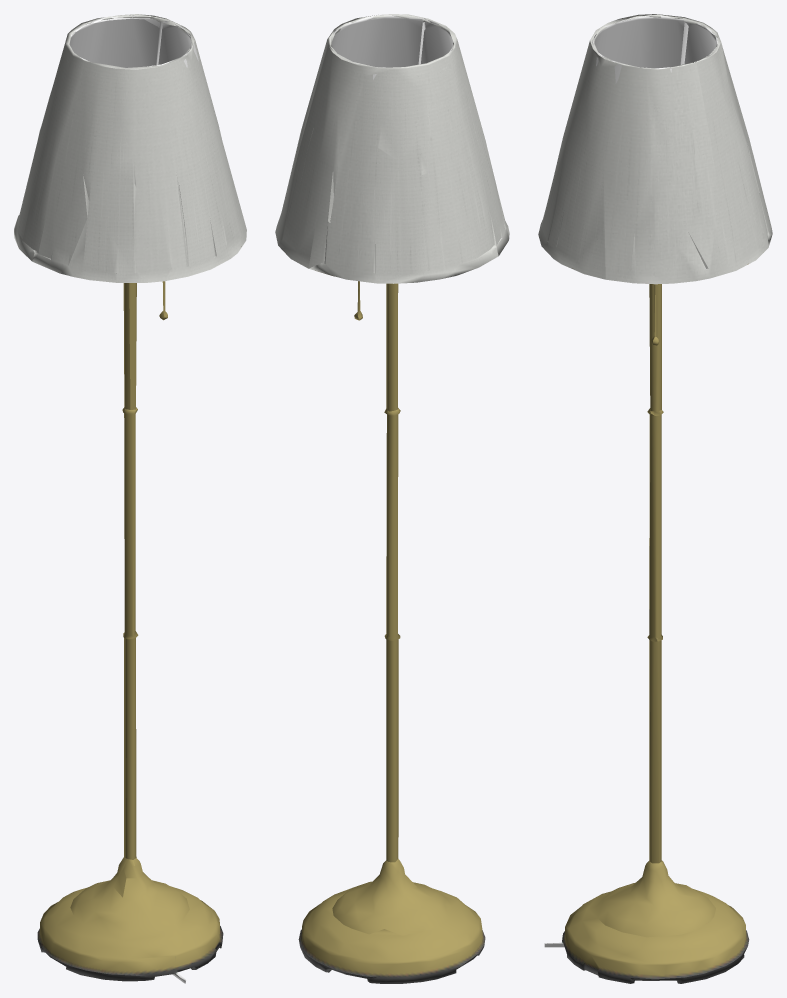
Rendered from arstid_floor_lamp_brass_white.glb.
The picture shows the model from 3 angles, left to right: view 1: azimuth 30°, elevation 25°; view 2: azimuth 150°, elevation 25°; view 3: azimuth 270°, elevation 25°; orthographic projection.
Parts seen in each view (by area): view 1: ProcessedMeshNode; view 2: ProcessedMeshNode; view 3: ProcessedMeshNode.
Part boxes in pixels (<box>): ProcessedMeshNode: <box>14,14,246,983</box>; ProcessedMeshNode: <box>275,14,509,983</box>; ProcessedMeshNode: <box>538,14,772,983</box>.
Bounding box in the file's own units: 0.3647 × 1.55 × 0.3627.
Materials: 2 (2 with a texture image).
